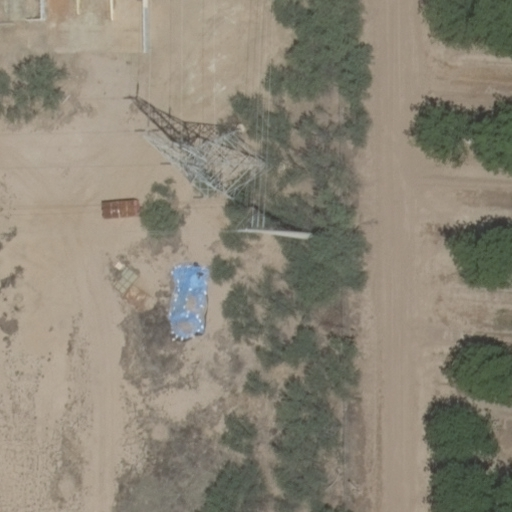TT: (142, 116, 271, 205)
